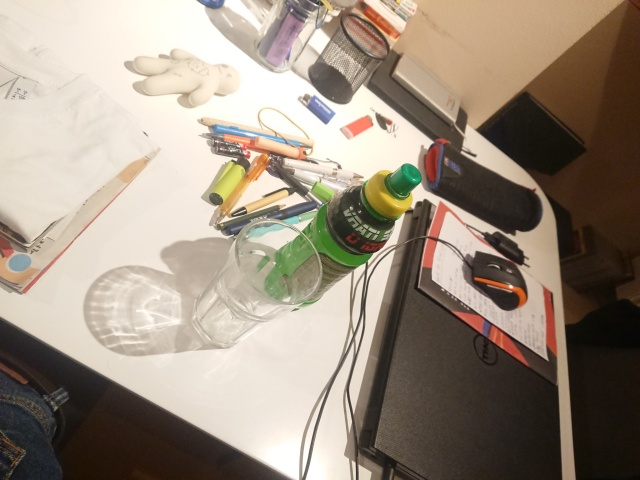Vindi Iso Sport Lemon-Grapefruit 500mL: (255, 160, 424, 310)
